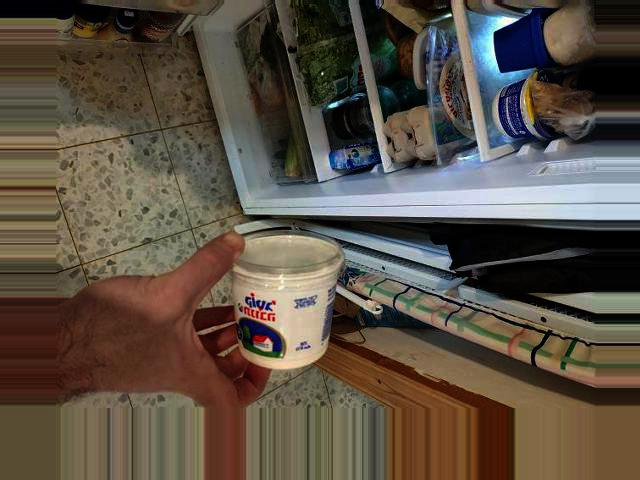cotage: (222, 239, 332, 358)
